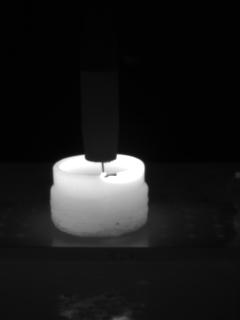tip_wire_left: (85, 158, 105, 176)
tip_wire_right: (101, 157, 117, 177)
